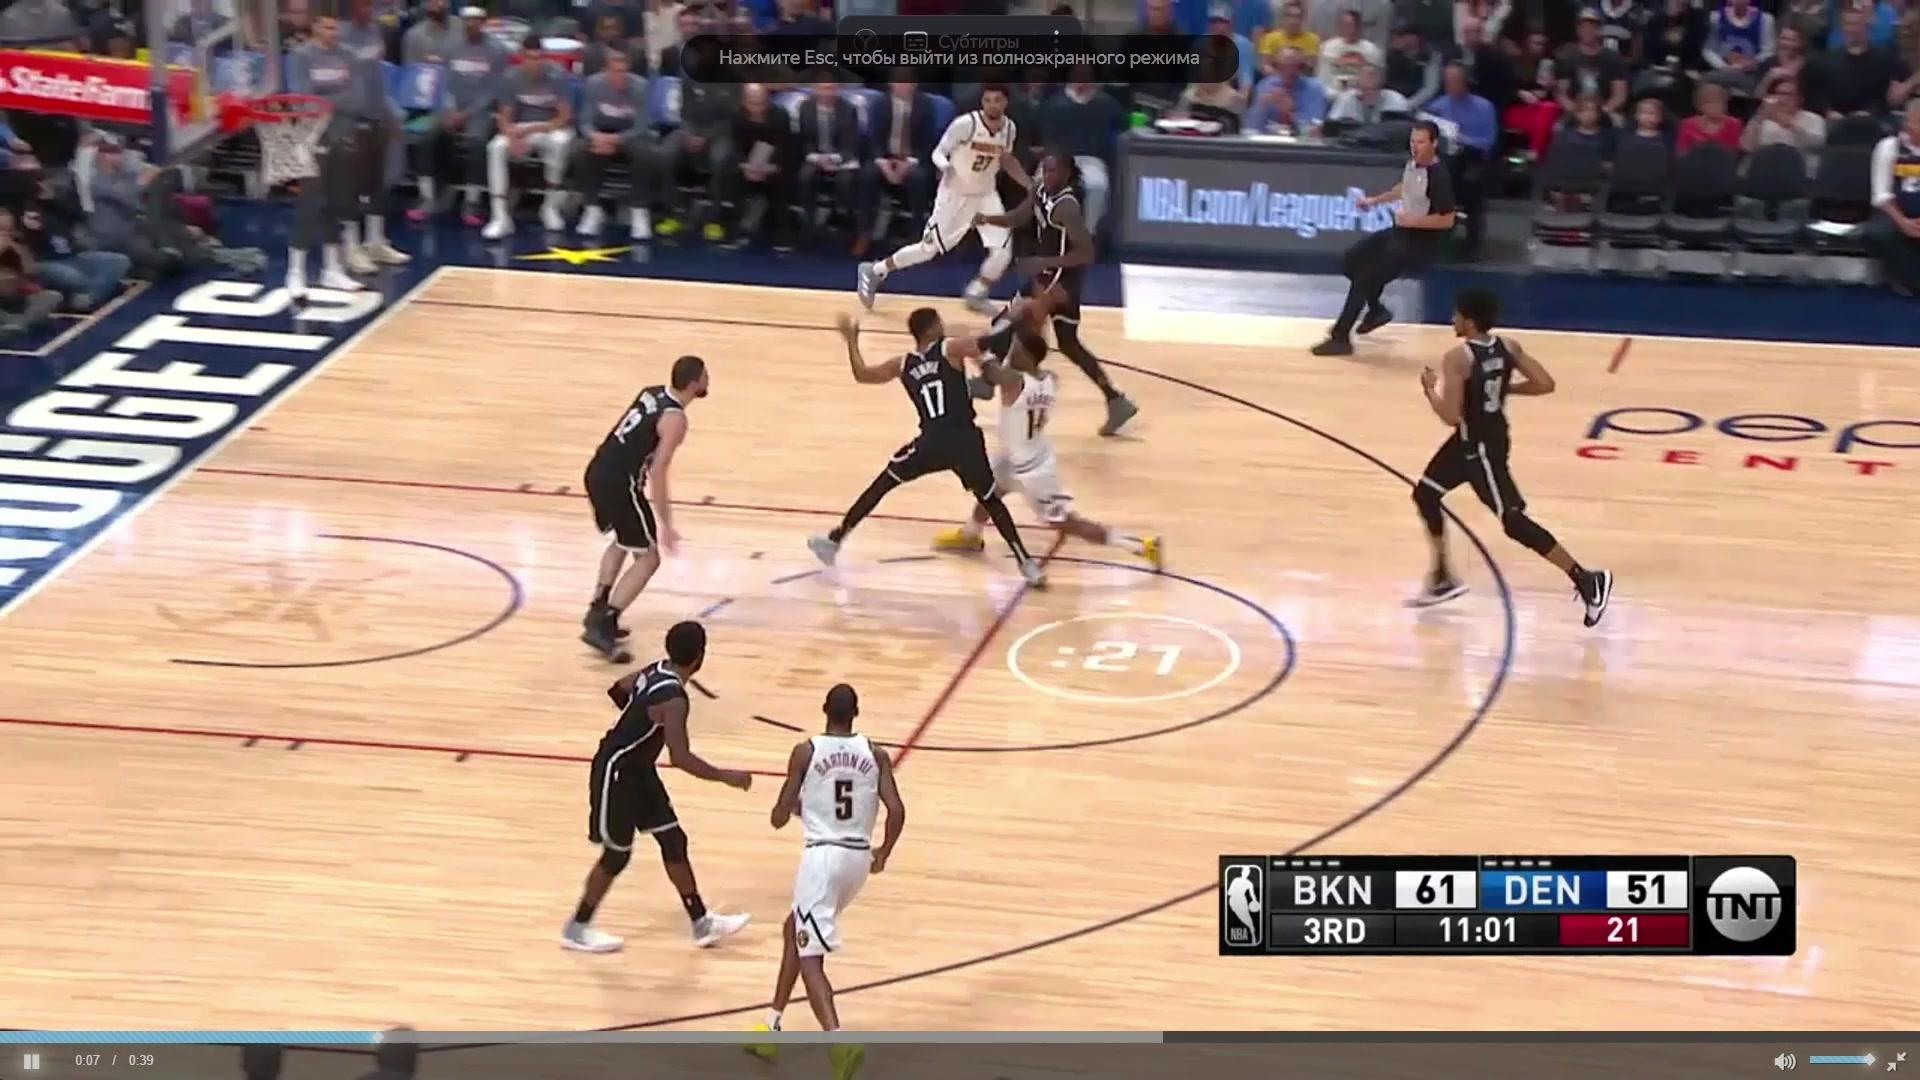no_foul: (814, 294, 1184, 593)
